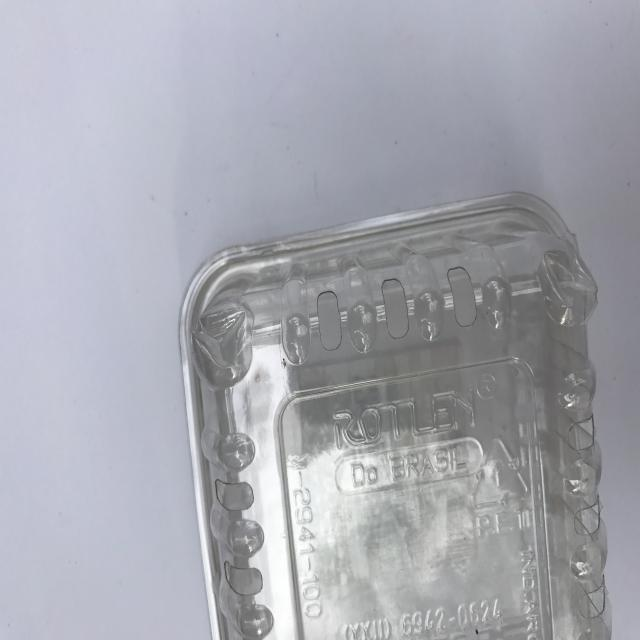plastic: (179, 190, 612, 640)
